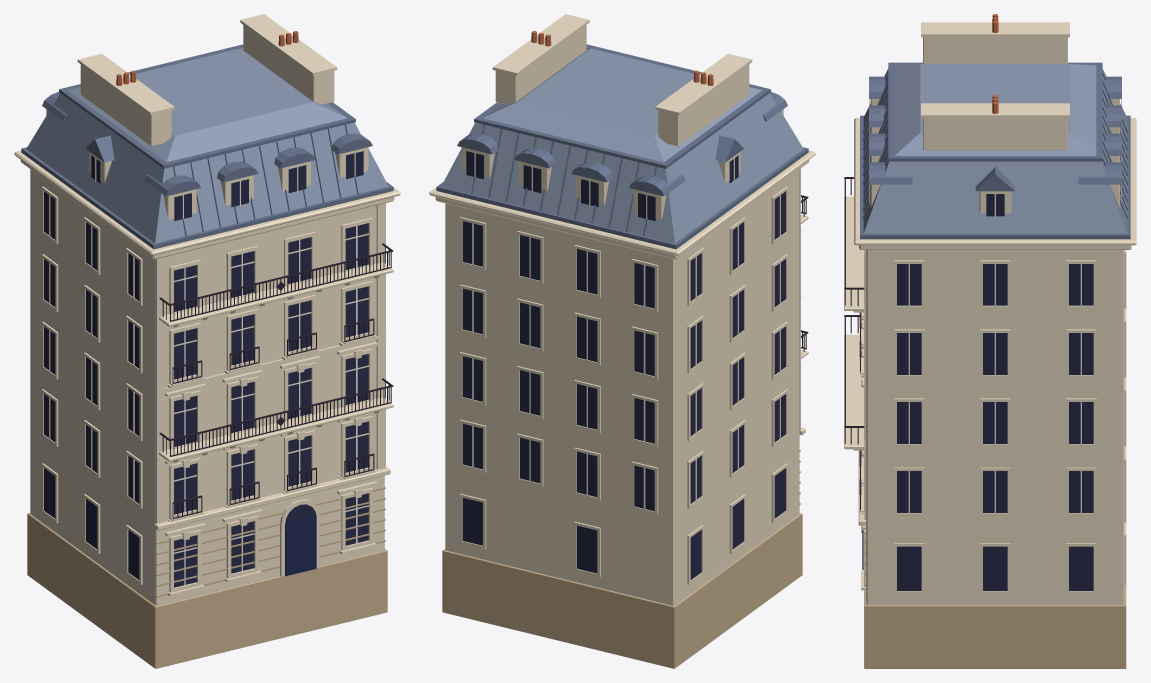
File: paris_powder.glb
3 renders of one model, left to right at view 1: azimuth 30°, elevation 25°; view 2: azimuth 150°, elevation 25°; view 3: azimuth 270°, elevation 25°, orthographic. The views are drawn at different scales.
Parts seen in each view (by area): view 1: paris_powder; view 2: paris_powder; view 3: paris_powder.
Part boxes in pixels (x1=…): paris_powder: x1=14, y1=14, x2=400, y2=668; paris_powder: x1=429, y1=14, x2=815, y2=668; paris_powder: x1=844, y1=14, x2=1136, y2=668.
Size of the model in its own units: 12 by 24.8 by 11.9.
